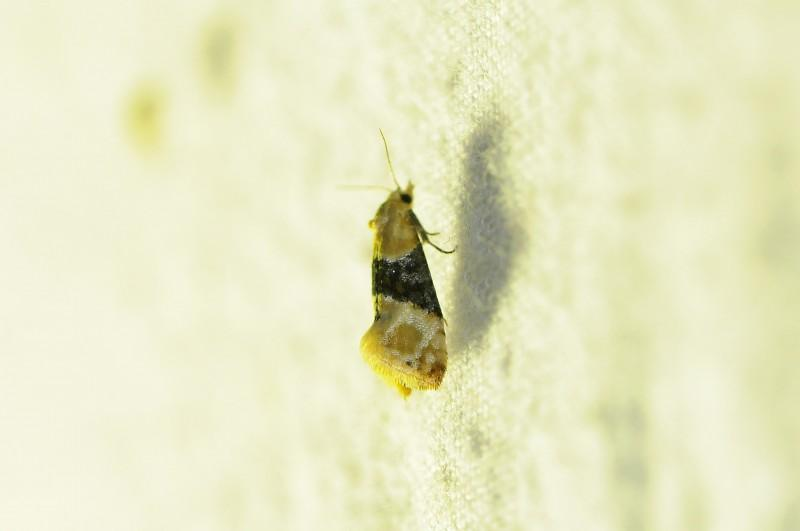Eupoecilia Ambiguella: (341, 126, 459, 401)
